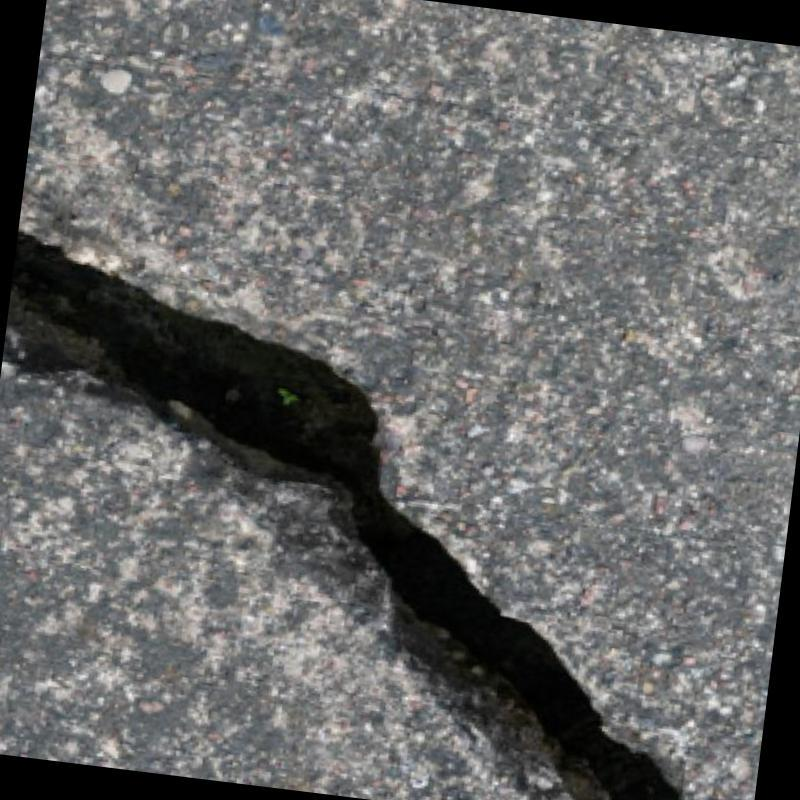pothole: (8, 231, 677, 800)
